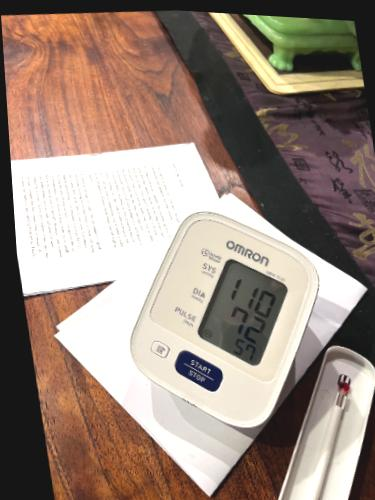bpm: (191, 257, 292, 370)
